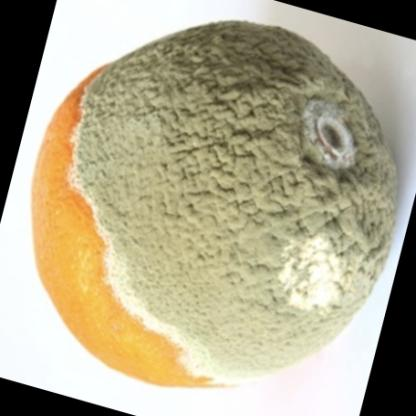rotten: (30, 23, 396, 393)
